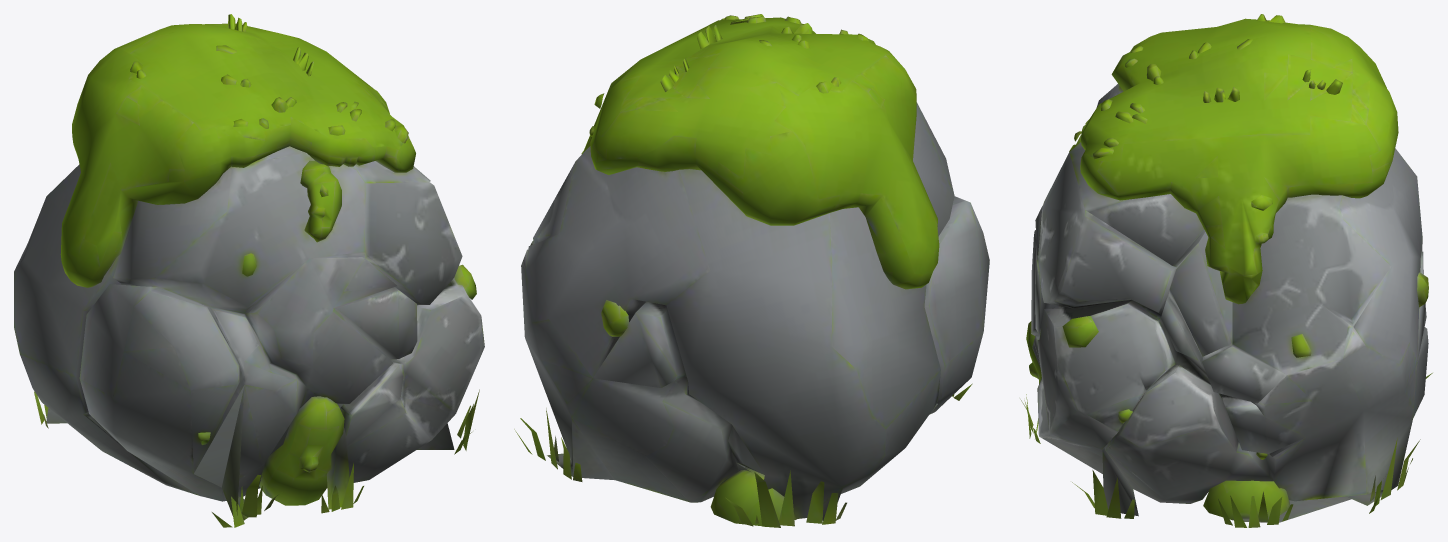
File: moss_rock.glb
3 renders of one model, left to right at view 1: azimuth 30°, elevation 25°; view 2: azimuth 150°, elevation 25°; view 3: azimuth 270°, elevation 25°, orthographic. The views are drawn at different scales.
Visible parts, largest first — view 1: tripo_node_a56d1c2d-9f7f-4902-9f7d-2565e1d17aee; view 2: tripo_node_a56d1c2d-9f7f-4902-9f7d-2565e1d17aee; view 3: tripo_node_a56d1c2d-9f7f-4902-9f7d-2565e1d17aee.
Part boxes in pixels (x1,y1,x2,y2): tripo_node_a56d1c2d-9f7f-4902-9f7d-2565e1d17aee: [14, 14, 484, 527]; tripo_node_a56d1c2d-9f7f-4902-9f7d-2565e1d17aee: [514, 14, 989, 527]; tripo_node_a56d1c2d-9f7f-4902-9f7d-2565e1d17aee: [1020, 14, 1432, 527].
Bounding box in the file's own units: 0.9586 × 0.9985 × 0.9467.
Materials: 1 (1 with a texture image).
